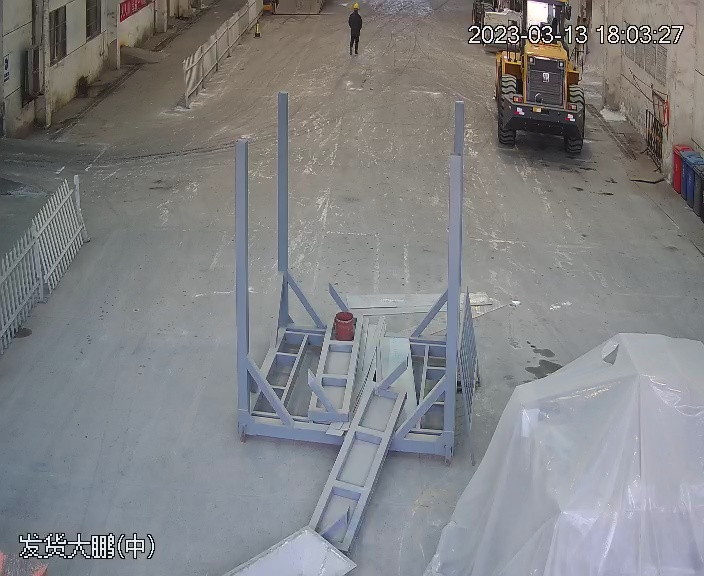head: (347, 2, 363, 19)
helmet: (350, 2, 360, 9)
people: (345, 1, 365, 56)
